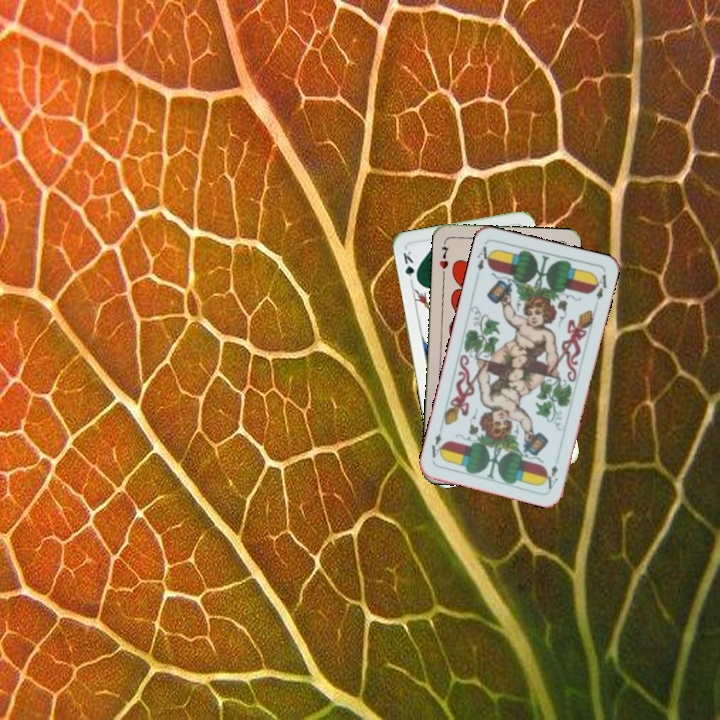EA: (472, 240, 495, 280), (541, 461, 561, 492)
GK: (399, 247, 420, 286)
H7: (435, 242, 451, 279)
